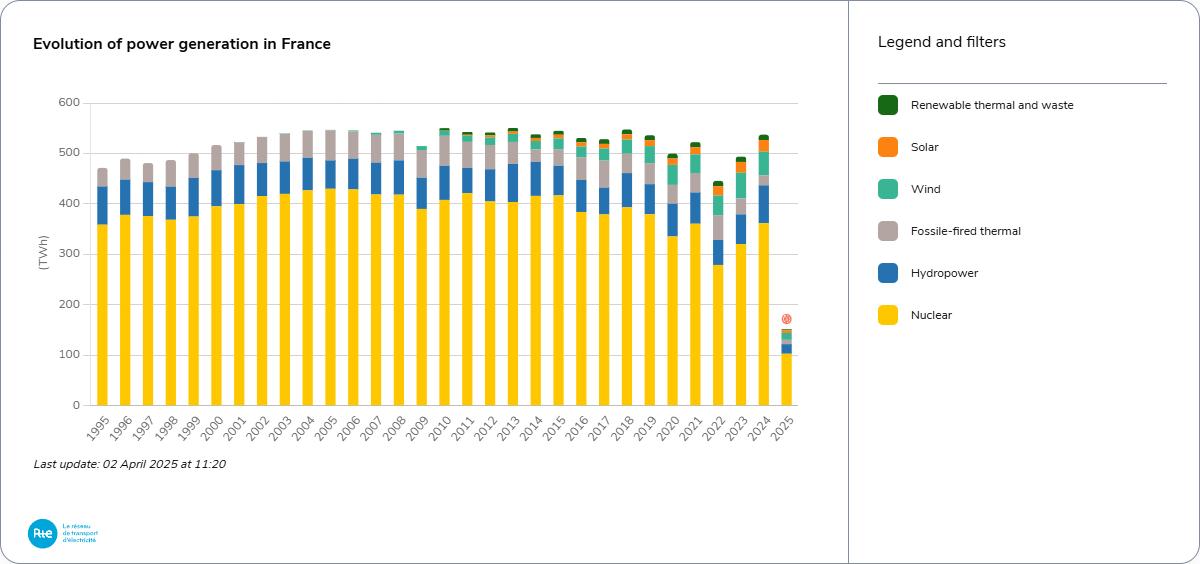

The page's visual inventory and layout, read from the dashboard file:
{"tool":"tableau","page":{"name":"D_AnnualGeneration&Use","canvas":[1000,1000],"units":"permille","ordinal":0},"visuals":[{"type":"worksheet","title":"AnnualGeneration&Use","mark":"Automatic","rows":["Value"],"cols":["Region","Year"],"box":[6.7,13.5,677.8,973]},{"type":"legend","title":"AnnualGeneration&Use","param":"[federated.05oclpd0di546711f7y661pm4vap].[none:Technology:nk]","box":[684.5,13.5,308.8,973]}]}

Visuals, with their boxes on the dashboard's canvas, which has no fixed pixel size, in thousandths of its width and height (x1, y1, x2, y2). These are canvas units, not pixel positions in the 1200x564 screenshot, which may show the page scaled, cropped or inside an application window:
"AnnualGeneration&Use" worksheet: {"left": 7, "top": 14, "right": 684, "bottom": 986}
"AnnualGeneration&Use" legend: {"left": 684, "top": 14, "right": 993, "bottom": 986}
